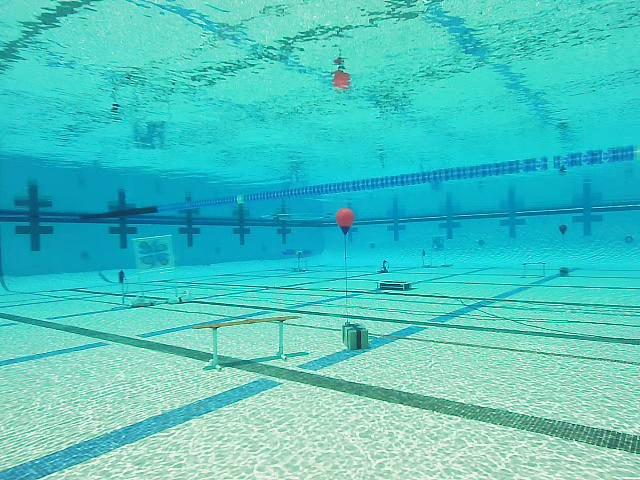buoy: (336, 208, 355, 235)
dropper: (374, 276, 413, 292)
table: (282, 247, 313, 272)
torpedo: (132, 234, 175, 274), (430, 232, 446, 252)
